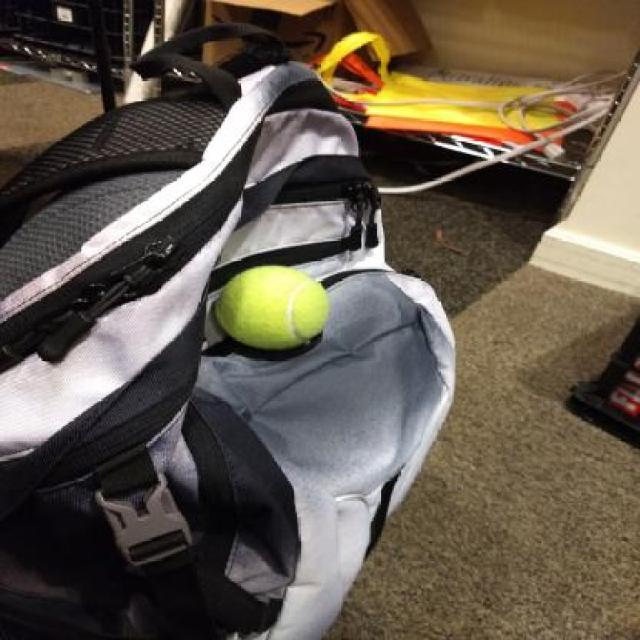Tennis_Ball: (217, 265, 329, 366)
